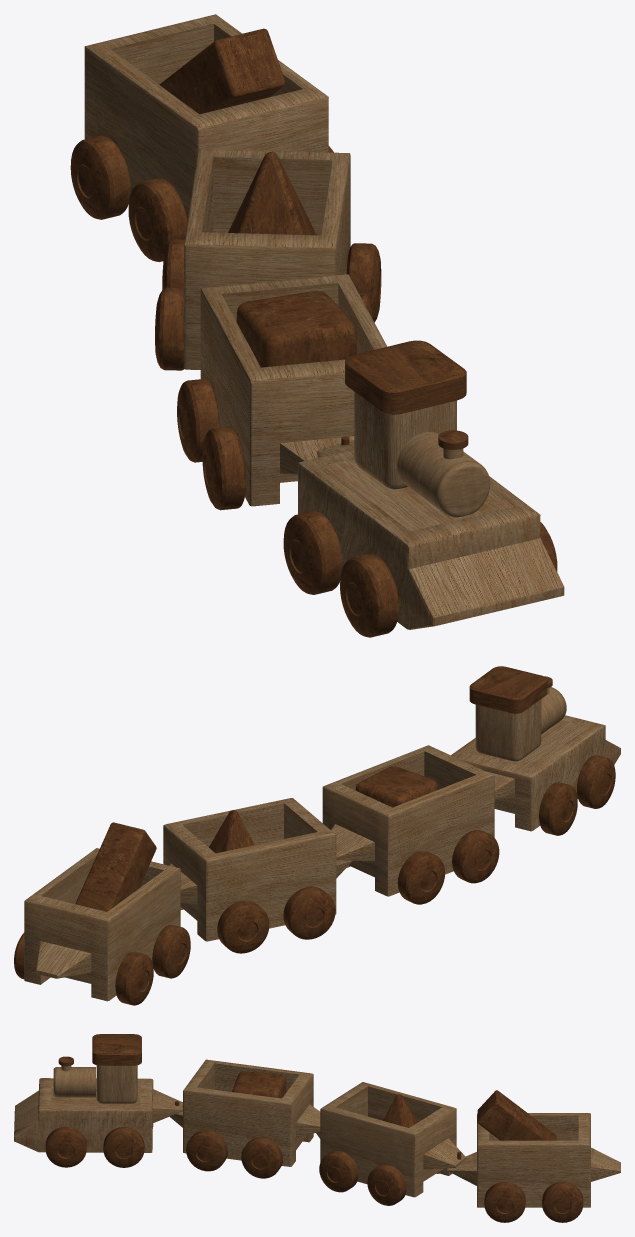
Rendered from Toytrain.glb.
3 renders of one model, top to bottom at view 1: azimuth 30°, elevation 25°; view 2: azimuth 150°, elevation 25°; view 3: azimuth 270°, elevation 25°, orthographic. The views are drawn at different scales.
Visible parts, largest first — view 1: Cube.004; view 2: Cube.004; view 3: Cube.004.
Boxes of the visible parts, x1,y1,x2,y2 form: Cube.004: [70, 14, 564, 637]; Cube.004: [14, 666, 620, 1005]; Cube.004: [14, 1034, 620, 1222].
Size of the model in its own units: 0.1363 by 0.0662 by 0.3455.
3 materials, 3 textured.
